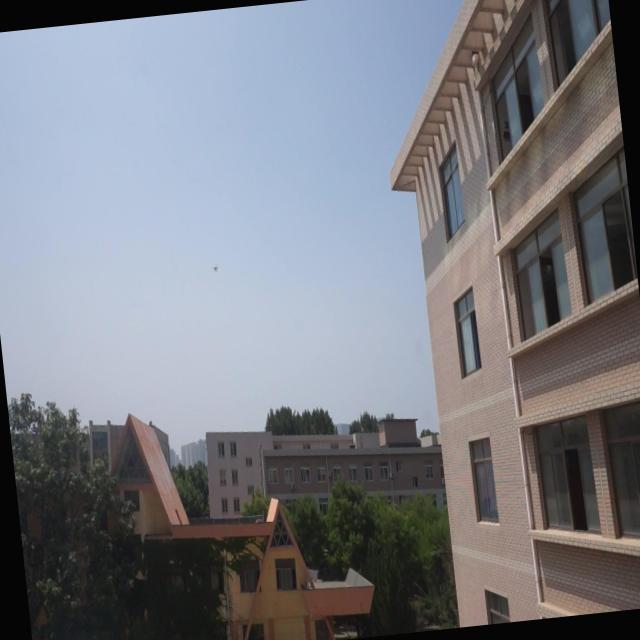drone: (208, 259, 222, 278)
